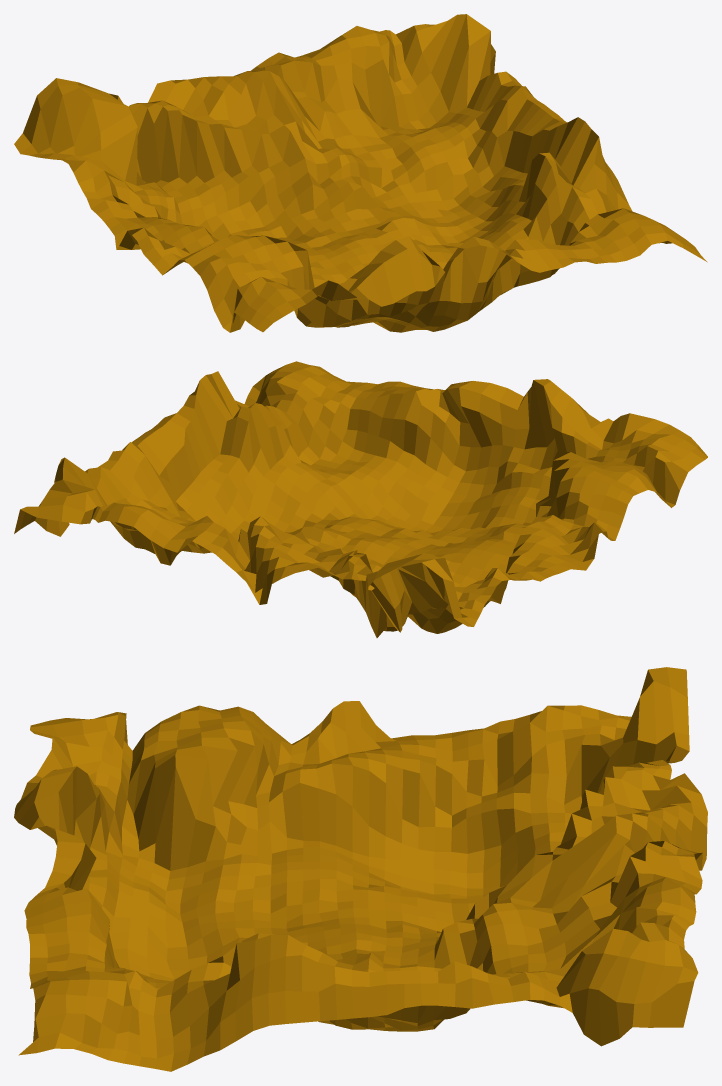
Rendered from LandscapeLowPoly1.fbx.
3 renders of one model, top to bottom at view 1: azimuth 30°, elevation 25°; view 2: azimuth 150°, elevation 25°; view 3: azimuth 270°, elevation 25°, orthographic. The views are drawn at different scales.
Visible parts, largest first — view 1: Plane; view 2: Plane; view 3: Plane.
Part boxes in pixels (left/top/right/bottom): Plane: left=14, top=14, right=707, bottom=332; Plane: left=14, top=361, right=707, bottom=637; Plane: left=14, top=667, right=707, bottom=1071.
Bounding box in the file's own units: 1070 × 332 × 1053.
